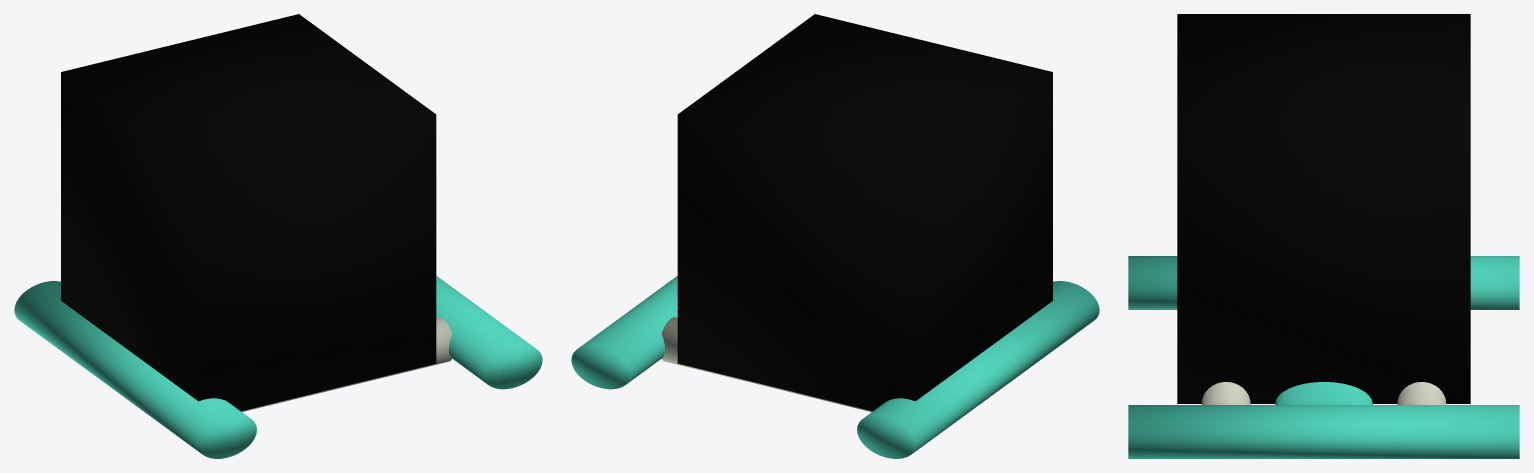
3 views of the same model, side by side, from view 1: azimuth 30°, elevation 25°; view 2: azimuth 150°, elevation 25°; view 3: azimuth 270°, elevation 25° (orthographic). The views are drawn at different scales.
Visible parts, largest first — view 1: Body; view 2: Body; view 3: Body.
Boxes of the visible parts, <box> form: Body: <box>14,14,542,458</box>; Body: <box>571,14,1099,458</box>; Body: <box>1128,14,1519,458</box>.
Bounding box in the file's own units: 0.87 × 0.8 × 0.65.
